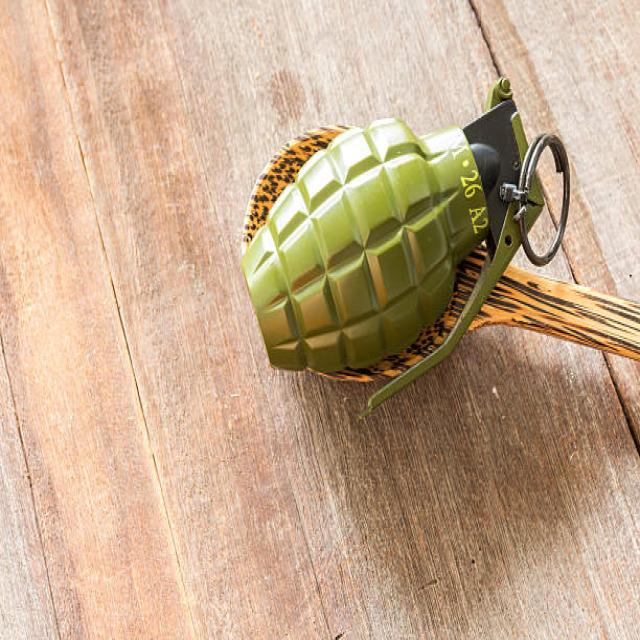grenade: (240, 73, 579, 427)
